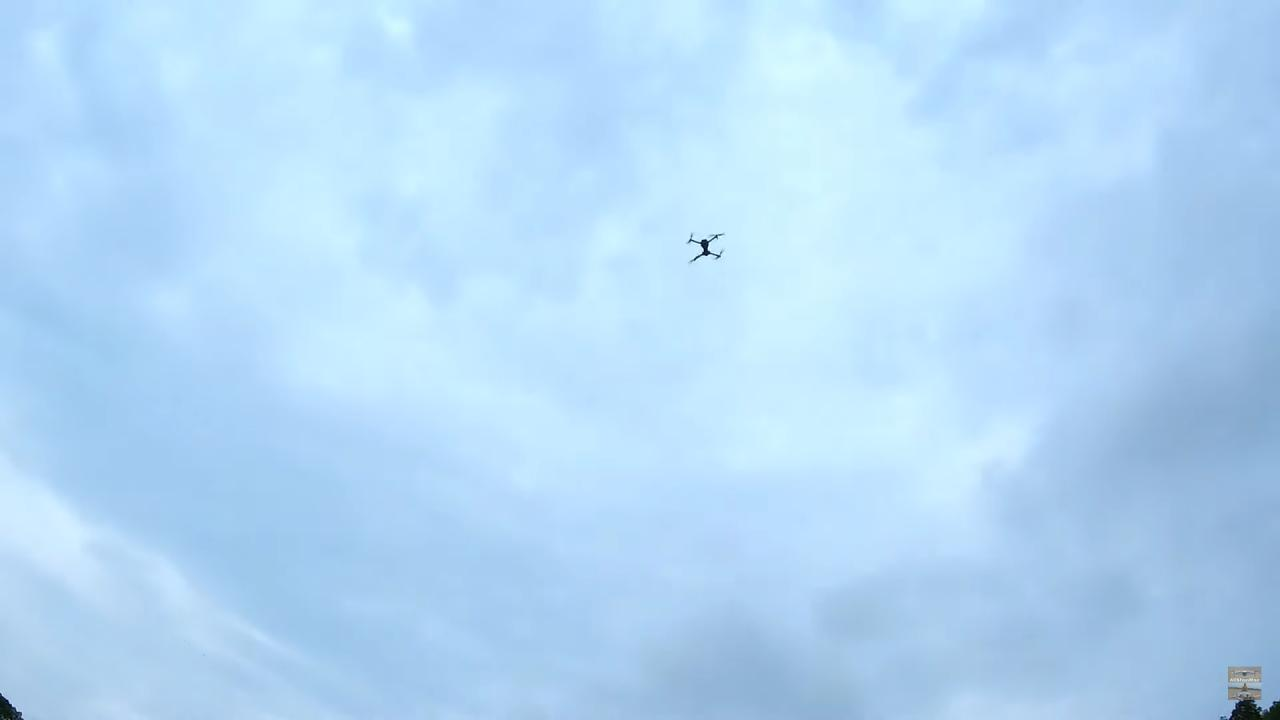Drone: (672, 220, 736, 274)
